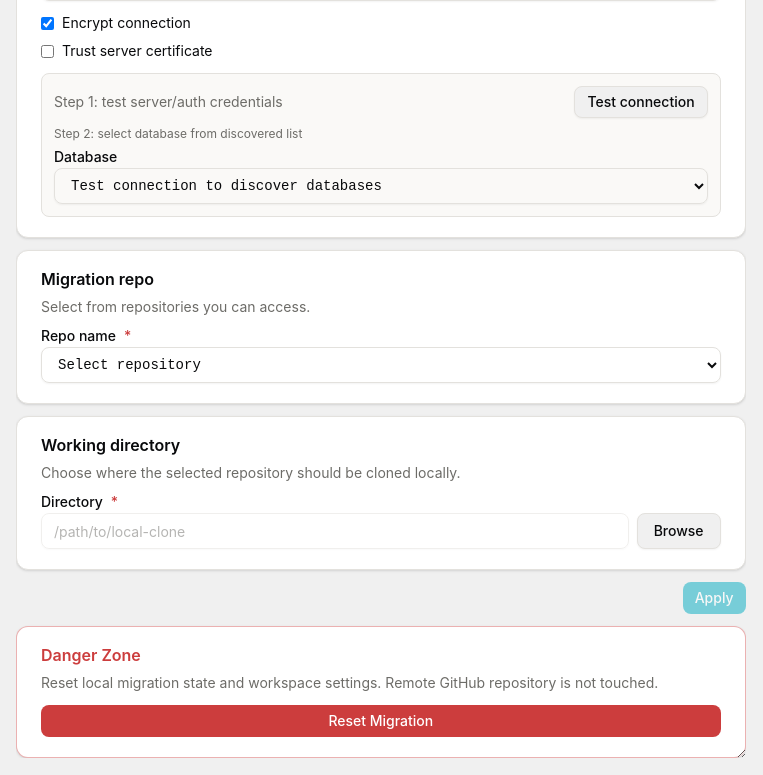
WorkspaceTab (Settings) › enforces browse-only working folder input
The width and height of the screenshot is (763, 775).
(page scrolled)
Expected: the field with test id "input-repo-path" is disabled, [41,513,629,549]
Click the button with test id "btn-pick-repo-path" at (679,531), box [637,513,721,549]
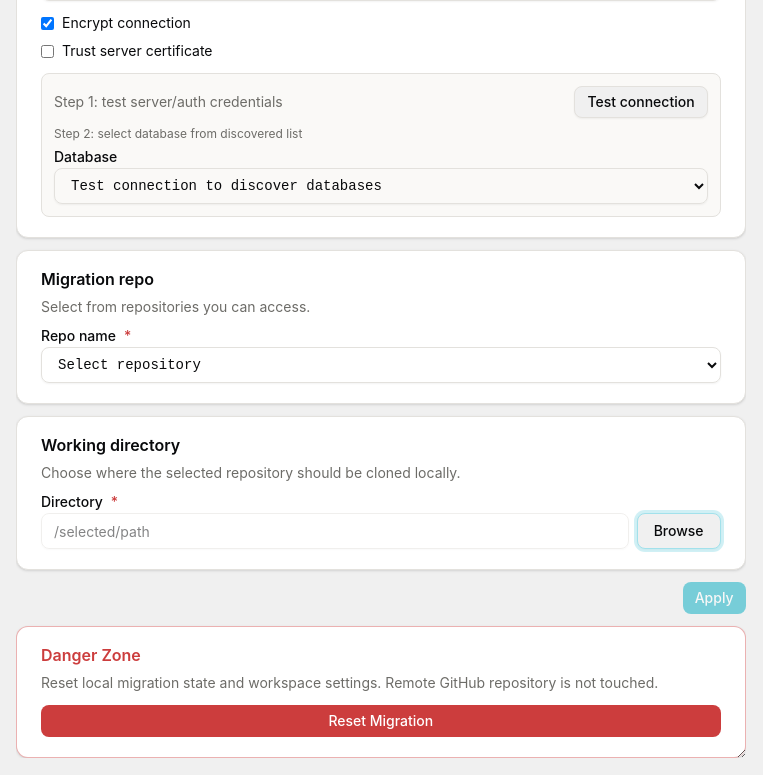
Expected: the field with test id "input-repo-path" holds "/selected/path", [41,513,629,549]
